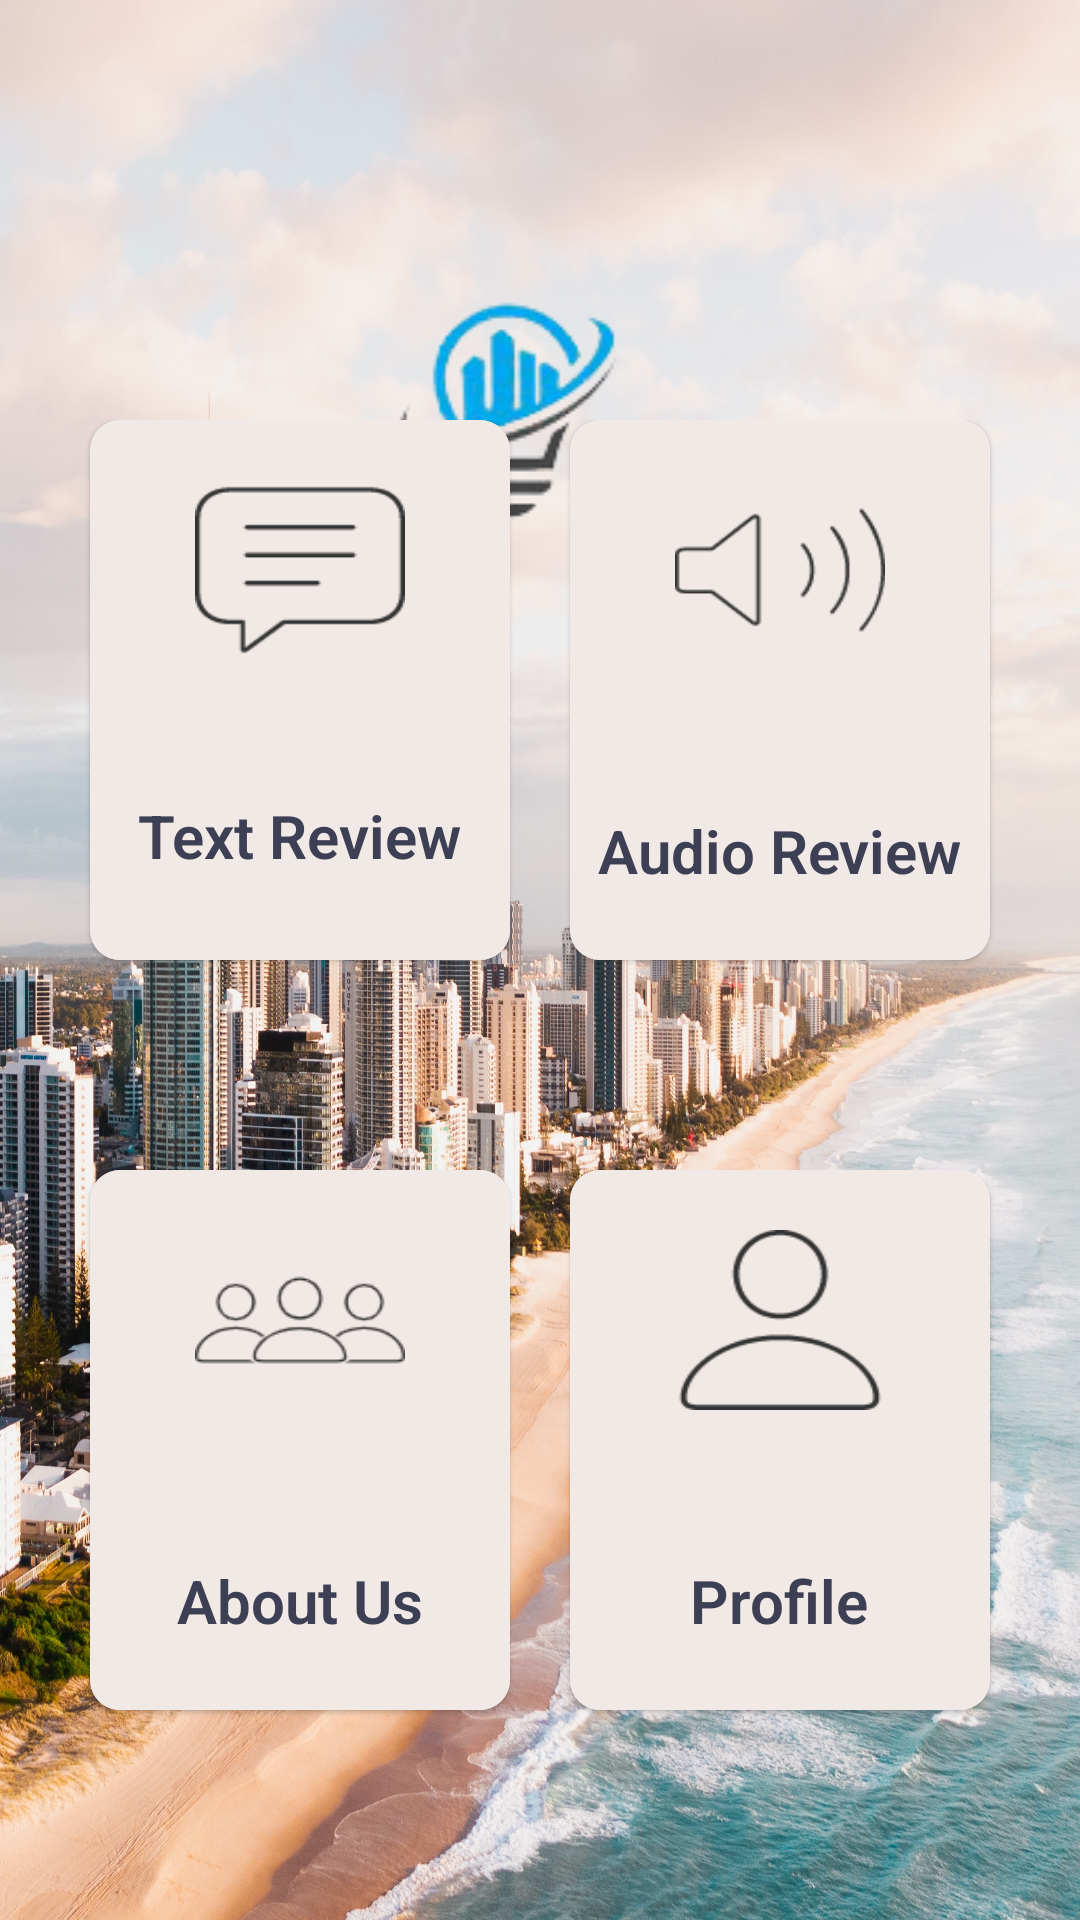

Icon bounding boxes for this 1080x1920 phone screenshot, format (x1, y1, x2, y2):
persson: (679, 1230, 881, 1410)
